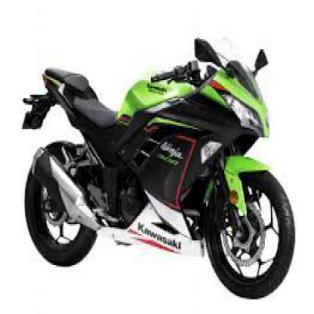Motocicleta: (17, 21, 297, 300)
